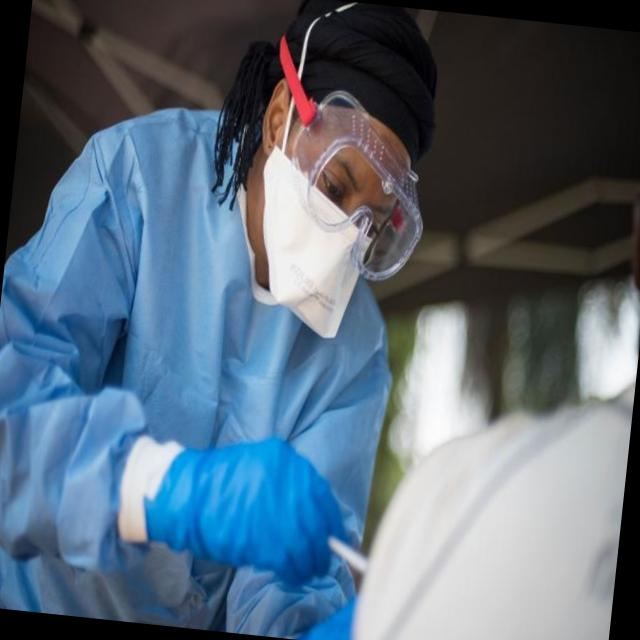Gloves: (136, 422, 340, 595)
